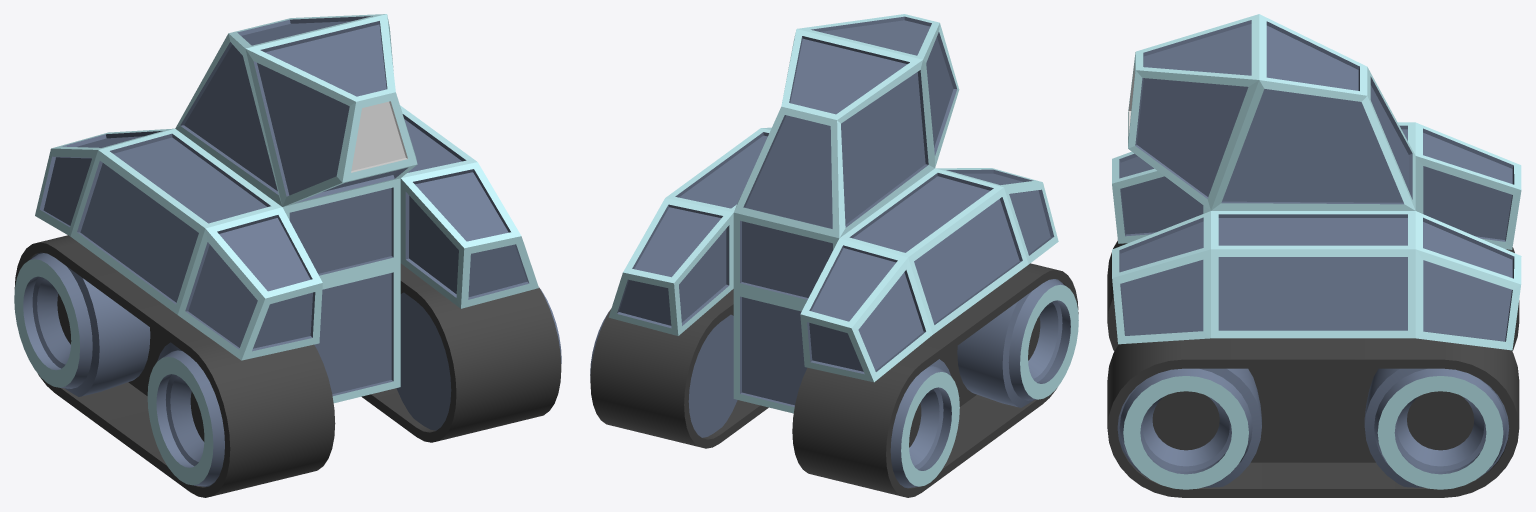
File: robot.fbx
3 renders of one model, left to right at view 1: azimuth 30°, elevation 25°; view 2: azimuth 150°, elevation 25°; view 3: azimuth 270°, elevation 25°, orthographic. The views are drawn at different scales.
Visible parts, largest first — view 1: Top, Tracks; view 2: Top, Tracks; view 3: Top, Tracks.
Boxes of the visible parts, <box> form: Top: <box>35,14,538,403</box>; Tracks: <box>14,235,561,497</box>; Top: <box>608,14,1058,413</box>; Tracks: <box>590,263,1078,497</box>; Top: <box>1112,14,1521,350</box>; Tracks: <box>1107,240,1519,497</box>.
Size of the model in its own units: 152 by 164 by 164.
